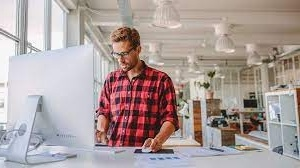not_fallen: (94, 23, 181, 152)
